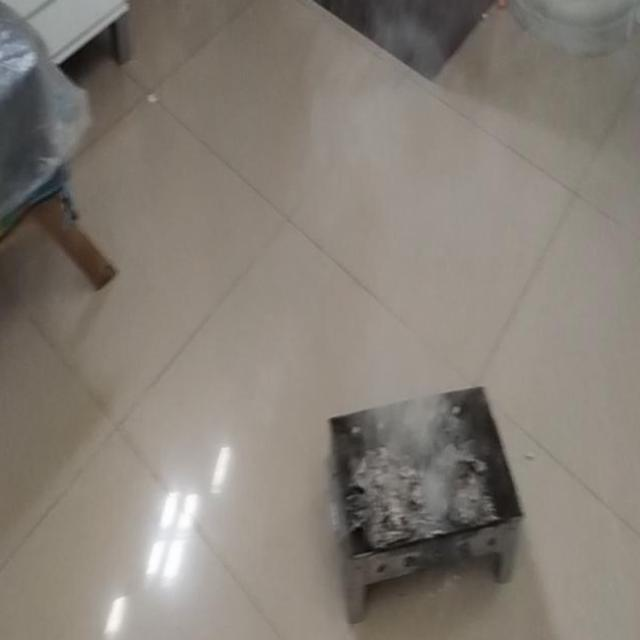fire: (366, 357, 448, 464)
